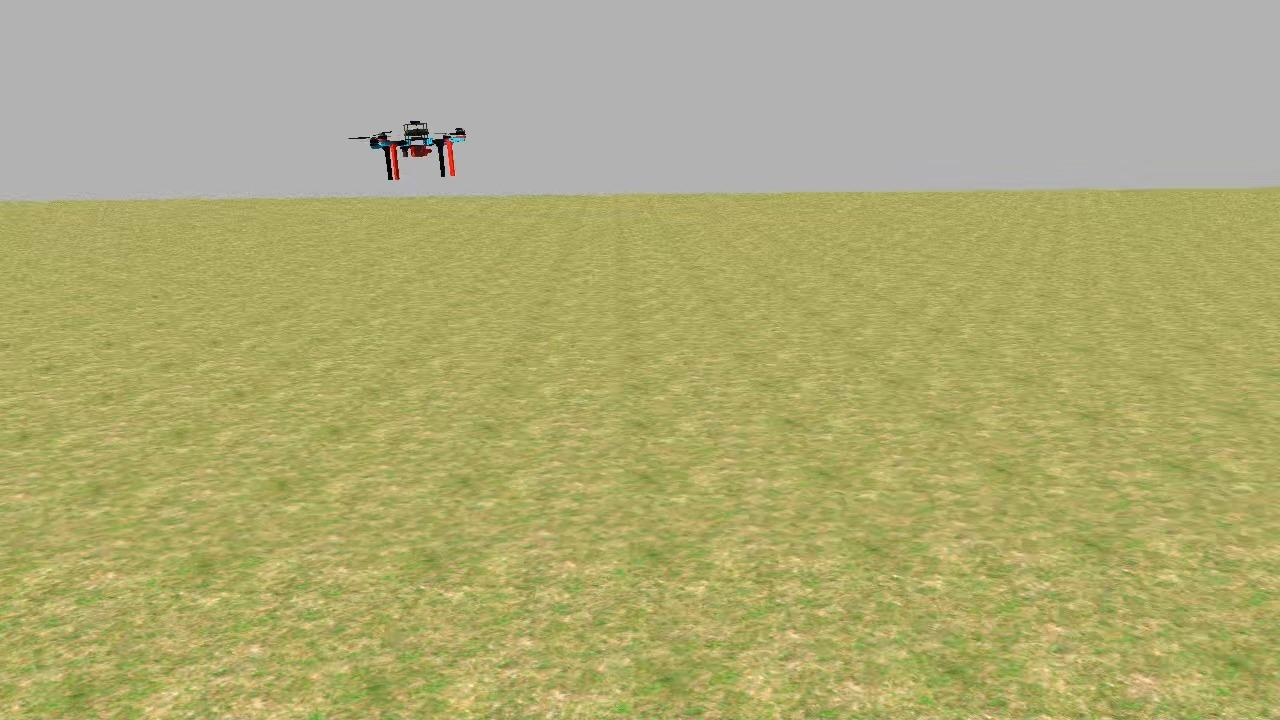UAV: (362, 110, 474, 190)
